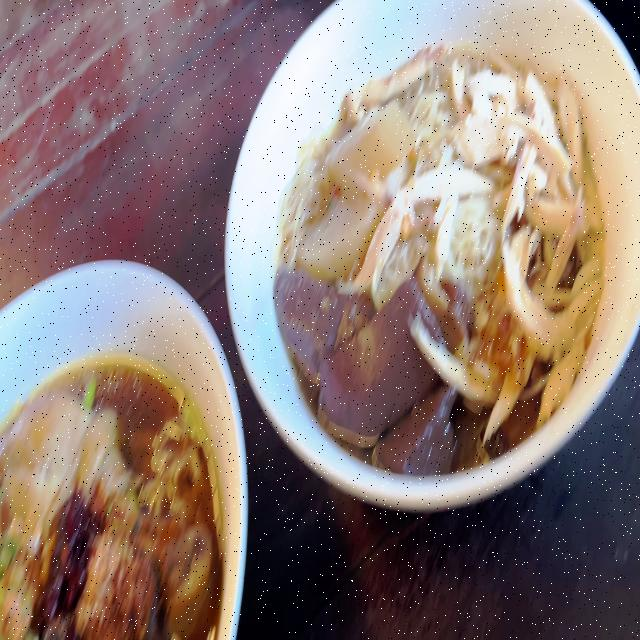boiled_chicken_blood_jelly: (269, 281, 478, 462)
chicken_drumstick: (3, 395, 212, 609)
chicken_shredded: (464, 59, 596, 380)
daikon_radish: (305, 110, 390, 266)
noodle: (268, 20, 602, 482), (0, 344, 243, 640)
